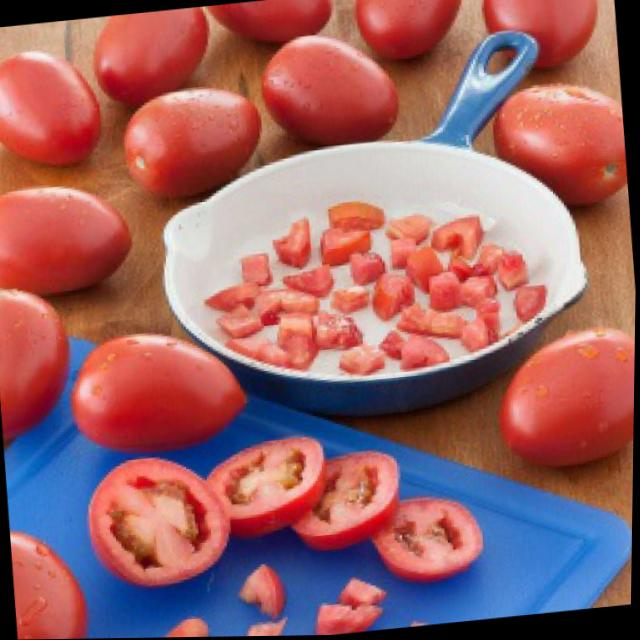tomato: (66, 326, 255, 463), (491, 327, 636, 477), (473, 81, 628, 216), (120, 81, 271, 207), (261, 28, 403, 155), (0, 179, 136, 303), (0, 44, 107, 175), (89, 6, 216, 115), (0, 283, 81, 442), (480, 0, 606, 80), (10, 527, 94, 640), (350, 0, 470, 69), (208, 0, 343, 52)
